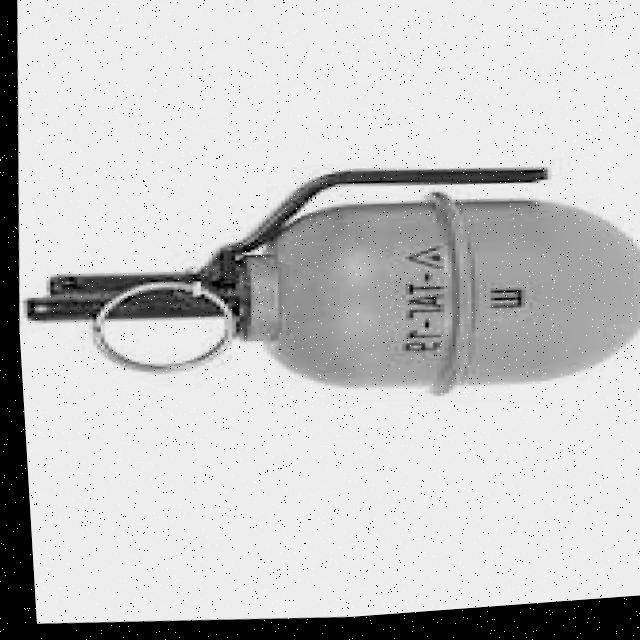grenade: (9, 147, 640, 433)
